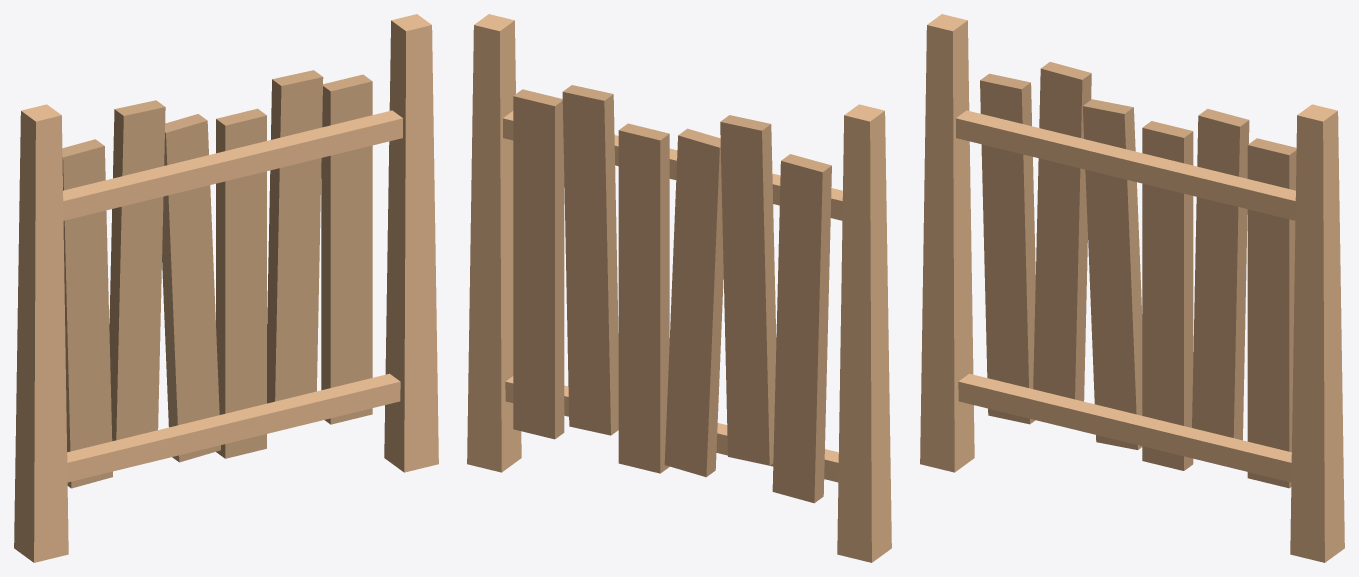
3 renders of one model, left to right at view 1: azimuth 30°, elevation 25°; view 2: azimuth 150°, elevation 25°; view 3: azimuth 330°, elevation 25°, orthographic.
Visible parts, largest first — view 1: fenceFortified; view 2: fenceFortified; view 3: fenceFortified.
Part boxes in pixels (left/top/right/bottom): fenceFortified: left=14, top=14, right=438, bottom=562; fenceFortified: left=467, top=14, right=891, bottom=562; fenceFortified: left=920, top=14, right=1344, bottom=562.
Bounding box in the file's own units: 0.5 × 0.5175 × 0.053.
